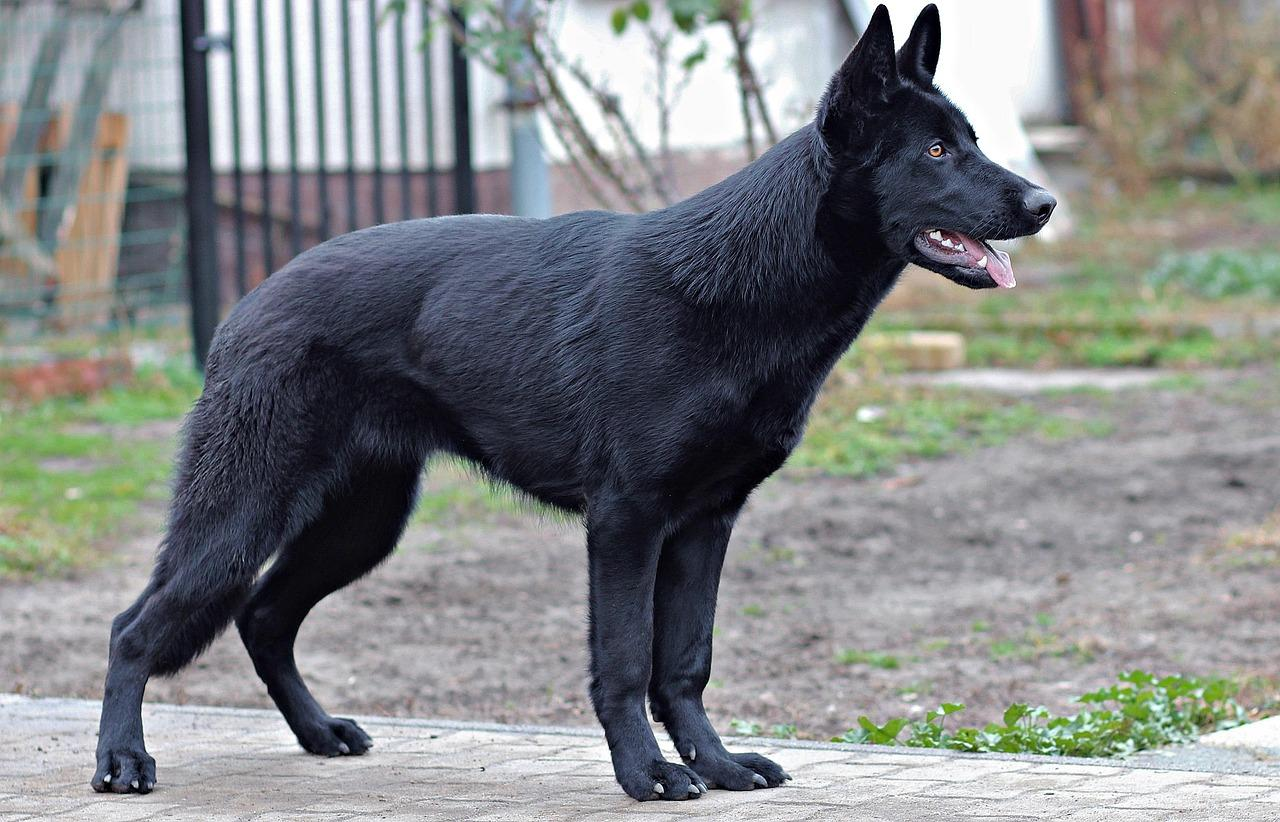german_shepherd: (783, 13, 1080, 350)
